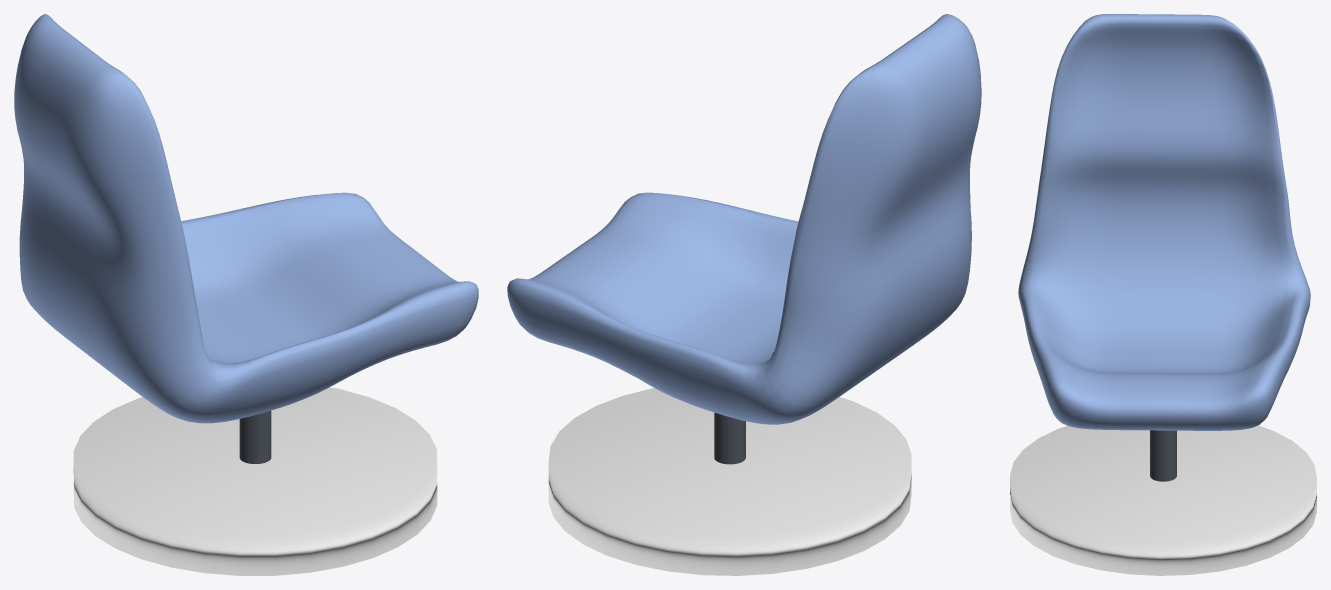
3 renders of one model, left to right at view 1: azimuth 30°, elevation 25°; view 2: azimuth 150°, elevation 25°; view 3: azimuth 270°, elevation 25°, orthographic. The views are drawn at different scales.
Parts seen in each view (by area): view 1: cha.001, under.001, l.001; view 2: cha.001, under.001, l.001; view 3: cha.001, under.001, l.001.
Part boxes in pixels (<box>): cha.001: <box>14,14,478,423</box>; under.001: <box>73,387,437,575</box>; l.001: <box>239,410,271,463</box>; cha.001: <box>507,14,981,424</box>; under.001: <box>548,388,911,575</box>; l.001: <box>714,412,745,464</box>; cha.001: <box>1018,14,1310,430</box>; under.001: <box>1010,425,1316,575</box>; l.001: <box>1150,430,1176,481</box>.
Size of the model in its own units: 244 by 303 by 200.
